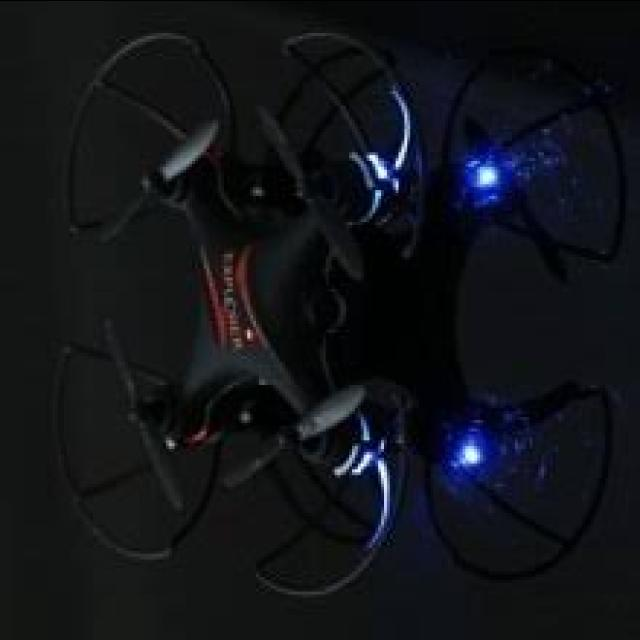drone: (51, 1, 438, 620)
